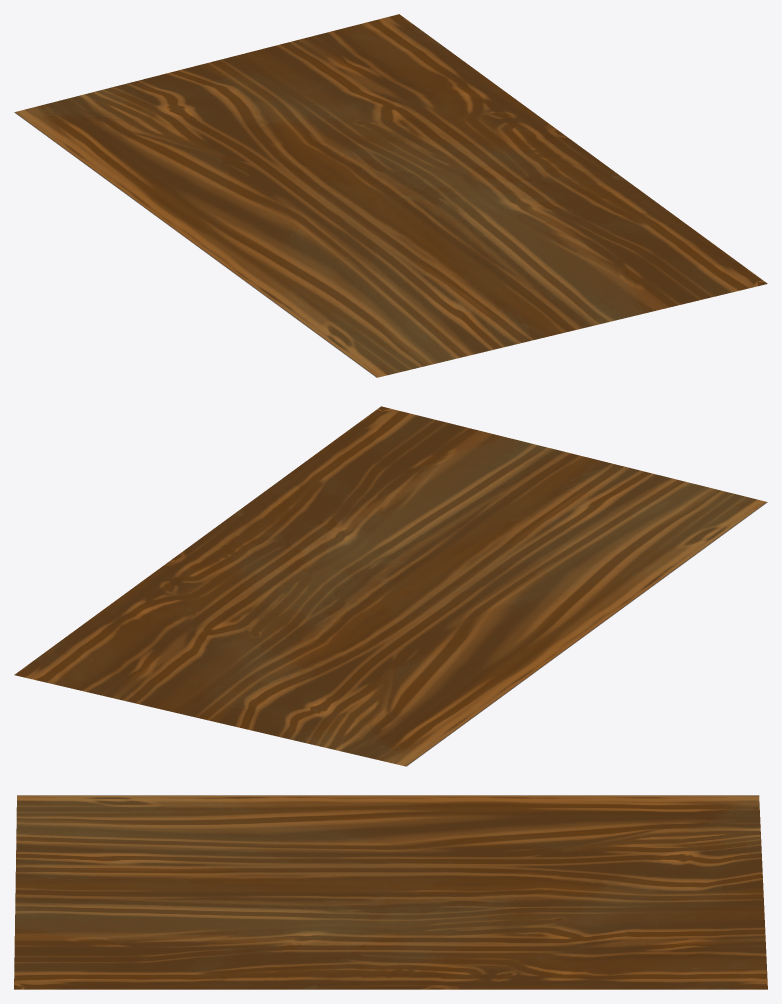
3 renders of one model, top to bottom at view 1: azimuth 30°, elevation 25°; view 2: azimuth 150°, elevation 25°; view 3: azimuth 270°, elevation 25°, orthographic. The views are drawn at different scales.
Parts seen in each view (by area): view 1: Plane.024; view 2: Plane.024; view 3: Plane.024.
Boxes of the visible parts, x1,y1,x2,y2 form: Plane.024: (14,14,767,377); Plane.024: (14,406,767,766); Plane.024: (14,795,767,989).
Size of the model in its own units: 684 by 0.000177 by 1121.
1 material, 1 textured.
